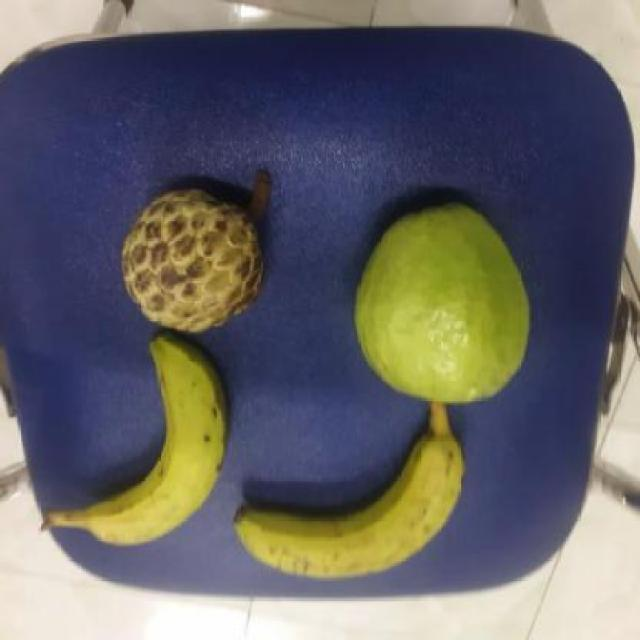banana: (226, 421, 469, 592), (71, 331, 237, 554)
guava: (353, 196, 536, 407)
sugar apple: (112, 189, 266, 335)
